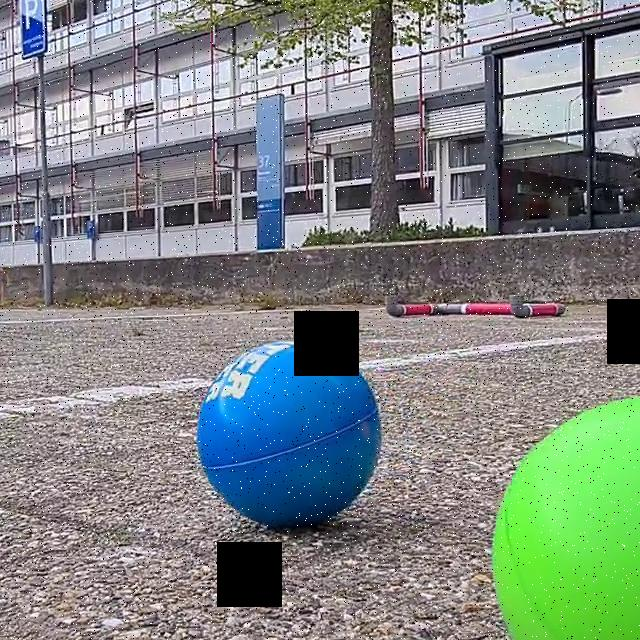ball: (489, 395, 640, 640), (192, 338, 382, 531)
